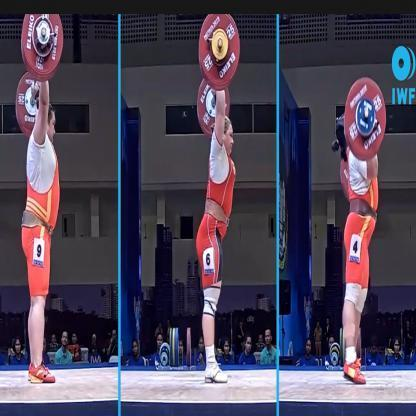barbell: (16, 13, 62, 135), (196, 14, 239, 135), (345, 77, 387, 157)
